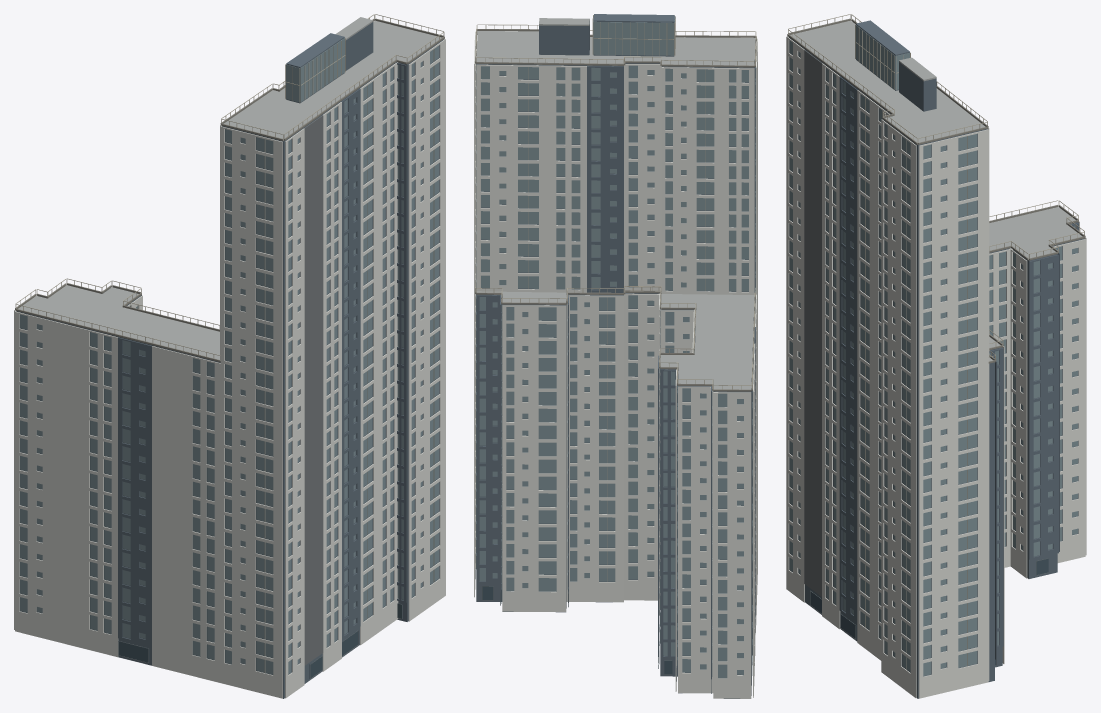
File: bespoke-raemian-onebailey-117.glb
3 views of the same model, side by side, from view 1: azimuth 30°, elevation 25°; view 2: azimuth 150°, elevation 25°; view 3: azimuth 270°, elevation 25° (orthographic). The views are drawn at different scales.
Parts seen in each view (by area): view 1: 117_pale_bays_navy_shafts_5, 117_pale_bays_navy_shafts_1, 117_pale_bays_navy_shafts_4, 117_editable_massing, 117_glass_roof_crown_4, 117_pale_bays_navy_shafts_6, 117_pale_bays_navy_shafts_3, 117_glass_roof_crown_1, 117_glass_roof_crown_2, 117_pale_bays_navy_shafts_2, 117_glass_roof_crown_3; view 2: 117_pale_bays_navy_shafts_5, 117_pale_bays_navy_shafts_1, 117_pale_bays_navy_shafts_4, 117_glass_roof_crown_4, 117_editable_massing, 117_glass_roof_crown_1, 117_glass_roof_crown_2, 117_pale_bays_navy_shafts_3, 117_glass_roof_crown_3; view 3: 117_pale_bays_navy_shafts_5, 117_pale_bays_navy_shafts_1, 117_pale_bays_navy_shafts_4, 117_editable_massing, 117_pale_bays_navy_shafts_6, 117_glass_roof_crown_4, 117_glass_roof_crown_1, 117_pale_bays_navy_shafts_3, 117_glass_roof_crown_2, 117_glass_roof_crown_3, 117_pale_bays_navy_shafts_2.
Boxes of the visible parts, x1,y1,x2,y2 form: 117_pale_bays_navy_shafts_5: (14, 23, 445, 698); 117_pale_bays_navy_shafts_1: (20, 38, 438, 674); 117_pale_bays_navy_shafts_4: (103, 62, 406, 646); 117_editable_massing: (16, 22, 443, 698); 117_glass_roof_crown_4: (18, 17, 441, 359); 117_pale_bays_navy_shafts_6: (118, 115, 402, 678); 117_pale_bays_navy_shafts_3: (264, 38, 434, 672); 117_glass_roof_crown_1: (15, 18, 444, 362); 117_glass_roof_crown_2: (15, 14, 444, 358); 117_pale_bays_navy_shafts_2: (118, 603, 402, 678); 117_glass_roof_crown_3: (286, 33, 344, 67); 117_pale_bays_navy_shafts_5: (474, 31, 757, 698); 117_pale_bays_navy_shafts_1: (476, 15, 755, 677); 117_pale_bays_navy_shafts_4: (476, 66, 755, 679); 117_glass_roof_crown_4: (476, 18, 755, 391); 117_editable_massing: (476, 21, 755, 698); 117_glass_roof_crown_1: (475, 29, 756, 391); 117_glass_roof_crown_2: (475, 24, 756, 389); 117_pale_bays_navy_shafts_3: (475, 15, 756, 581); 117_glass_roof_crown_3: (593, 14, 674, 22); 117_pale_bays_navy_shafts_5: (786, 21, 1086, 698); 117_pale_bays_navy_shafts_1: (790, 25, 1077, 675); 117_pale_bays_navy_shafts_4: (839, 76, 1078, 660); 117_editable_massing: (788, 37, 1083, 698); 117_pale_bays_navy_shafts_6: (804, 50, 1048, 665); 117_glass_roof_crown_4: (790, 20, 1082, 361); 117_glass_roof_crown_1: (787, 18, 1085, 363); 117_pale_bays_navy_shafts_3: (855, 25, 967, 669); 117_glass_roof_crown_2: (788, 14, 1084, 360); 117_glass_roof_crown_3: (856, 20, 909, 55); 117_pale_bays_navy_shafts_2: (810, 558, 1048, 665).
Bounding box in the file's own units: 65.09 × 103 × 47.26.
